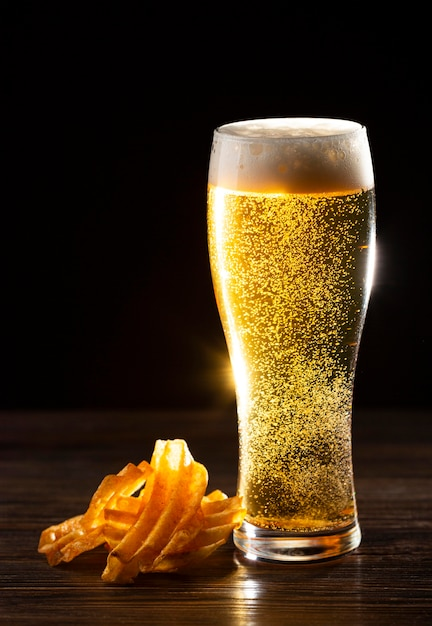alcohol: (203, 111, 381, 562)
